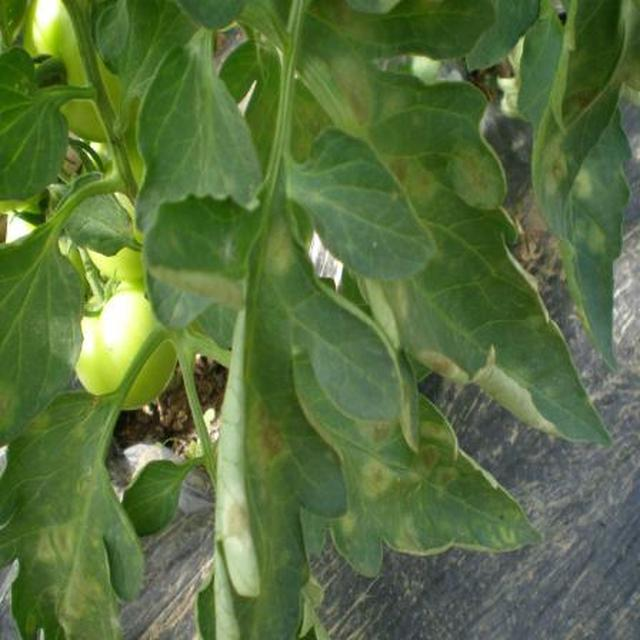Leaf Mold: (104, 264, 640, 640)
